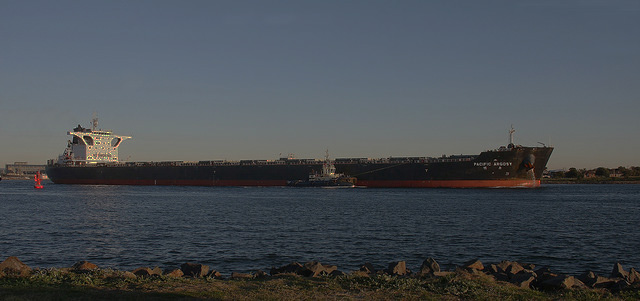bulk carrier: (47, 116, 555, 192)
tug_boat: (289, 155, 360, 193)
